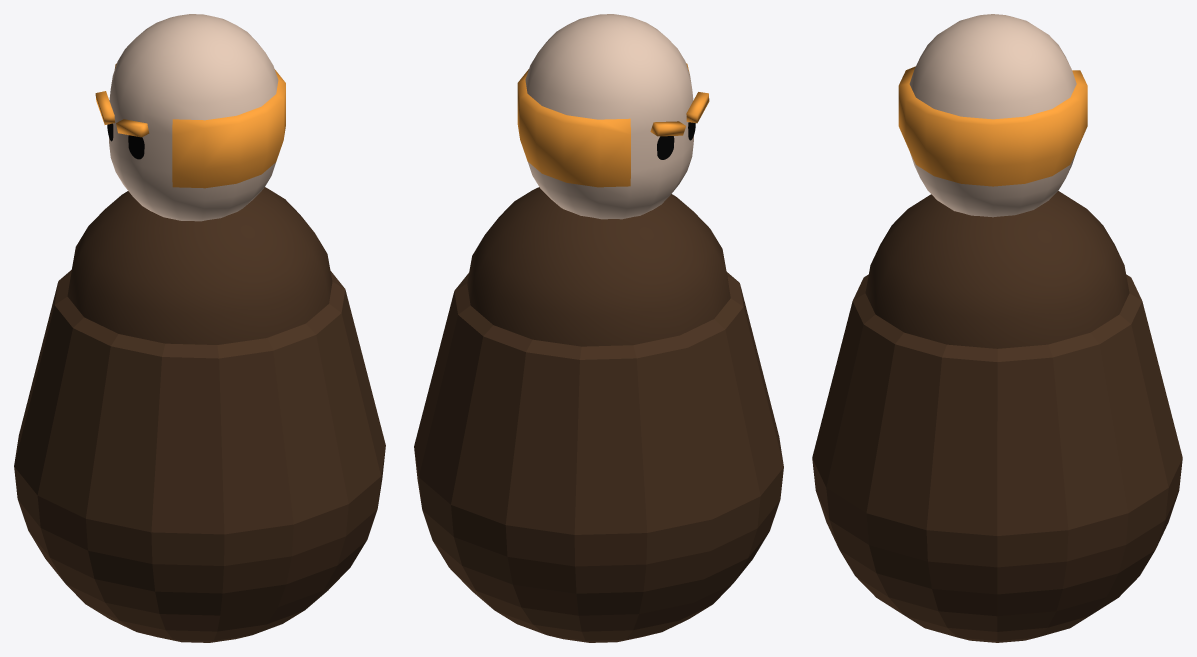
File: gigantinho.fbx
3 renders of one model, left to right at view 1: azimuth 30°, elevation 25°; view 2: azimuth 150°, elevation 25°; view 3: azimuth 270°, elevation 25°, orthographic.
Visible parts, largest first — view 1: Esfera UV.002, Esfera UV, Esfera UV.001, Cubo; view 2: Esfera UV.002, Esfera UV, Esfera UV.001, Cubo; view 3: Esfera UV.002, Esfera UV, Esfera UV.001.
Boxes of the visible parts, left/top/right/bottom form: Esfera UV.002: left=14, top=187, right=385, bottom=642; Esfera UV: left=109, top=14, right=278, bottom=221; Esfera UV.001: left=114, top=63, right=285, bottom=188; Cubo: left=95, top=91, right=149, bottom=137; Esfera UV.002: left=414, top=187, right=783, bottom=642; Esfera UV: left=525, top=14, right=693, bottom=219; Esfera UV.001: left=517, top=63, right=689, bottom=187; Cubo: left=650, top=92, right=709, bottom=136; Esfera UV.002: left=812, top=191, right=1182, bottom=642; Esfera UV: left=909, top=14, right=1076, bottom=217; Esfera UV.001: left=898, top=66, right=1087, bottom=186.
Size of the model in its own units: 211 by 376 by 211.
